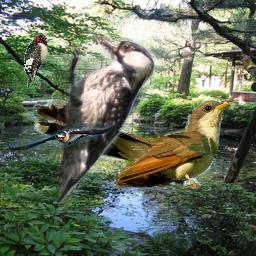Cuckoo: (33, 99, 237, 189)
Swallow: (8, 123, 113, 150)
Woodpecker: (57, 30, 155, 213), (24, 34, 53, 87)
